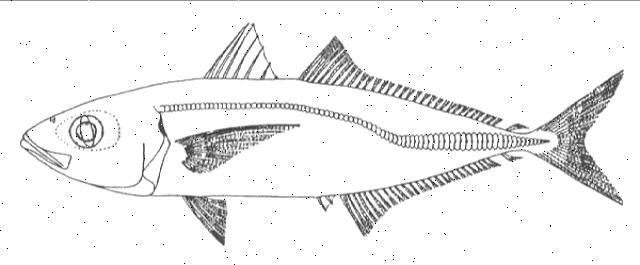Mulut: (14, 120, 66, 188)
Sirip Anal: (335, 153, 505, 247)
Sirip Dada: (178, 122, 306, 176)
Sirip Ekor: (528, 62, 630, 210)
Sirip Perut: (178, 191, 234, 252)
Sirip Punggung: (201, 20, 505, 128)
